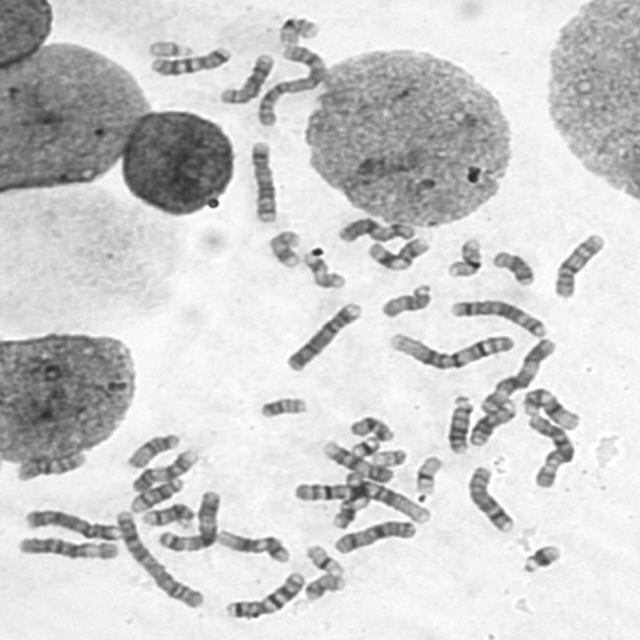A1: (289, 476, 434, 525), (384, 328, 516, 371)
A2: (109, 506, 207, 610), (251, 39, 328, 128)
A3: (475, 333, 558, 415), (152, 486, 224, 554)
B4: (280, 296, 364, 373), (19, 504, 122, 542)
B5: (444, 295, 548, 338), (245, 136, 280, 225)
C10: (548, 228, 608, 300), (10, 446, 88, 483)
C11: (362, 233, 432, 272), (327, 467, 368, 531)
C12: (517, 383, 582, 432), (211, 525, 291, 564)
C6: (521, 410, 578, 490), (13, 532, 122, 562)
C7: (219, 567, 308, 621), (144, 41, 233, 77)
C8: (462, 461, 517, 534), (214, 49, 276, 106)
C9: (126, 442, 200, 493), (318, 436, 395, 484)
D13: (464, 394, 520, 448), (442, 390, 475, 455)
D14: (125, 473, 186, 515), (137, 499, 195, 530)
D15: (121, 428, 182, 471), (376, 280, 434, 320)
E16: (441, 232, 485, 278), (274, 11, 322, 47)
E17: (297, 246, 348, 291), (262, 226, 304, 270)
E18: (486, 246, 536, 287), (344, 410, 396, 442)
F19: (301, 540, 346, 577), (410, 451, 444, 496)
F20: (253, 392, 310, 420), (299, 570, 347, 602)
G21: (516, 540, 564, 576), (346, 432, 381, 458)
G22: (142, 35, 195, 59), (368, 444, 409, 468)
X: (328, 517, 418, 555), (332, 213, 417, 244)
